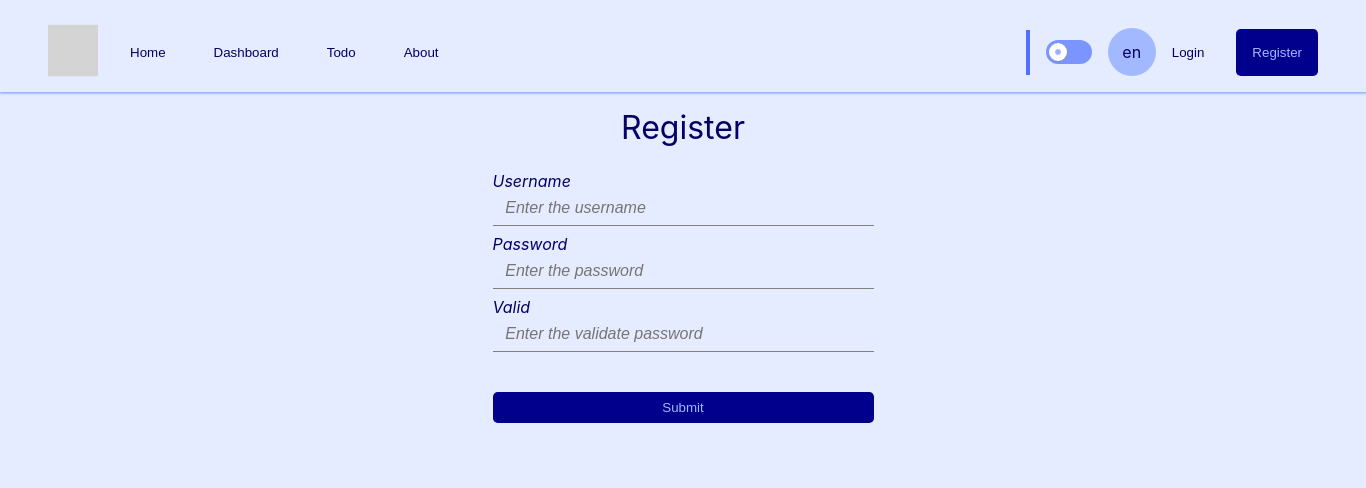
Test: Registering test › should show error if submit when nothing is enterred
Step 1. Click the button with test id "submit" → coordinates (684, 408), box top-left (493, 392), bottom-right (874, 423)
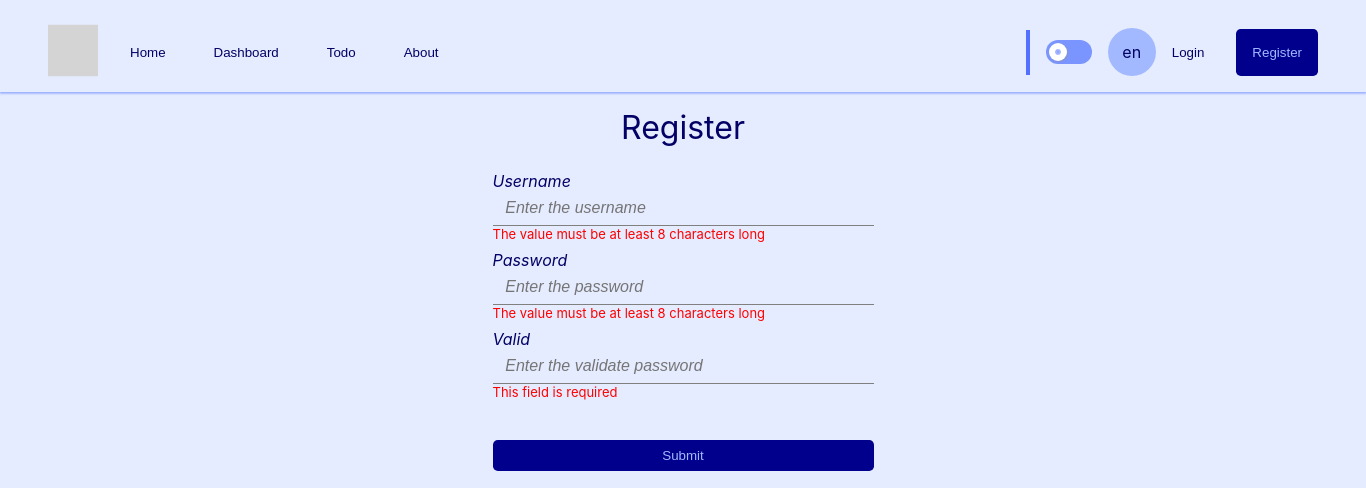
Now the text with test id "error" below "username" is shown, box top-left (493, 226), bottom-right (766, 242)
